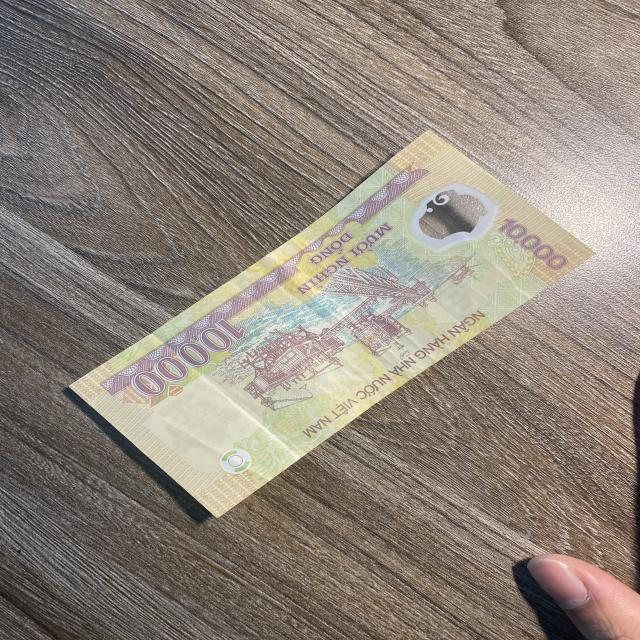10 000 VND: (57, 125, 604, 528)
